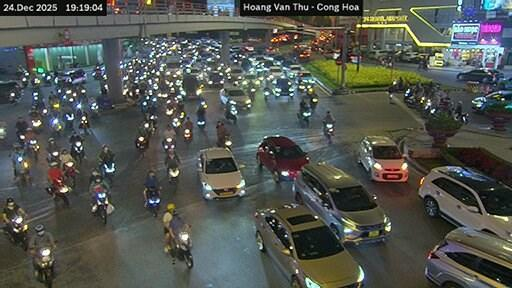motorbike: (170, 225, 192, 262), (35, 247, 54, 286), (3, 215, 25, 248), (47, 179, 70, 205), (92, 189, 108, 223), (147, 189, 160, 216), (64, 162, 77, 187), (16, 154, 28, 181), (101, 158, 114, 181), (419, 99, 435, 117), (70, 140, 83, 162), (134, 135, 147, 154), (26, 140, 38, 160), (297, 108, 310, 126), (224, 103, 236, 122), (170, 115, 181, 133), (323, 121, 332, 142), (167, 166, 178, 183), (79, 115, 89, 133), (217, 135, 230, 148), (29, 117, 41, 131), (51, 117, 60, 135), (64, 112, 73, 130), (454, 112, 467, 124), (90, 66, 102, 79), (89, 100, 98, 117), (163, 136, 173, 151), (41, 72, 51, 85), (48, 148, 57, 162), (19, 72, 28, 86), (9, 91, 19, 103), (182, 130, 192, 142), (248, 84, 256, 99), (310, 94, 317, 111), (51, 99, 60, 112), (144, 121, 153, 134), (262, 86, 271, 99), (165, 104, 173, 118), (0, 121, 6, 139), (197, 117, 204, 129), (32, 77, 39, 89), (297, 81, 305, 91), (199, 99, 207, 108)
